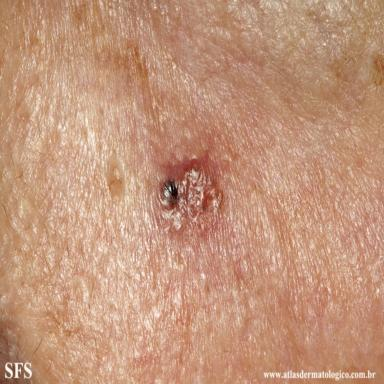basal-cell-carcinoma: (155, 153, 225, 233)
